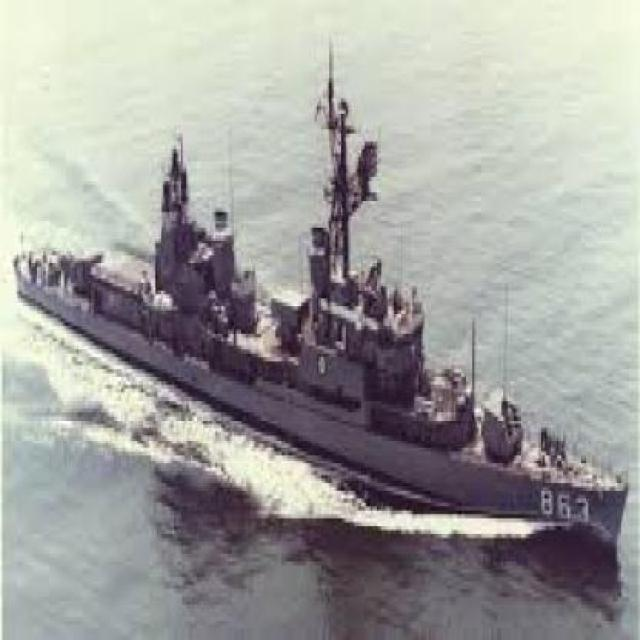warship2: (1, 71, 621, 566)
